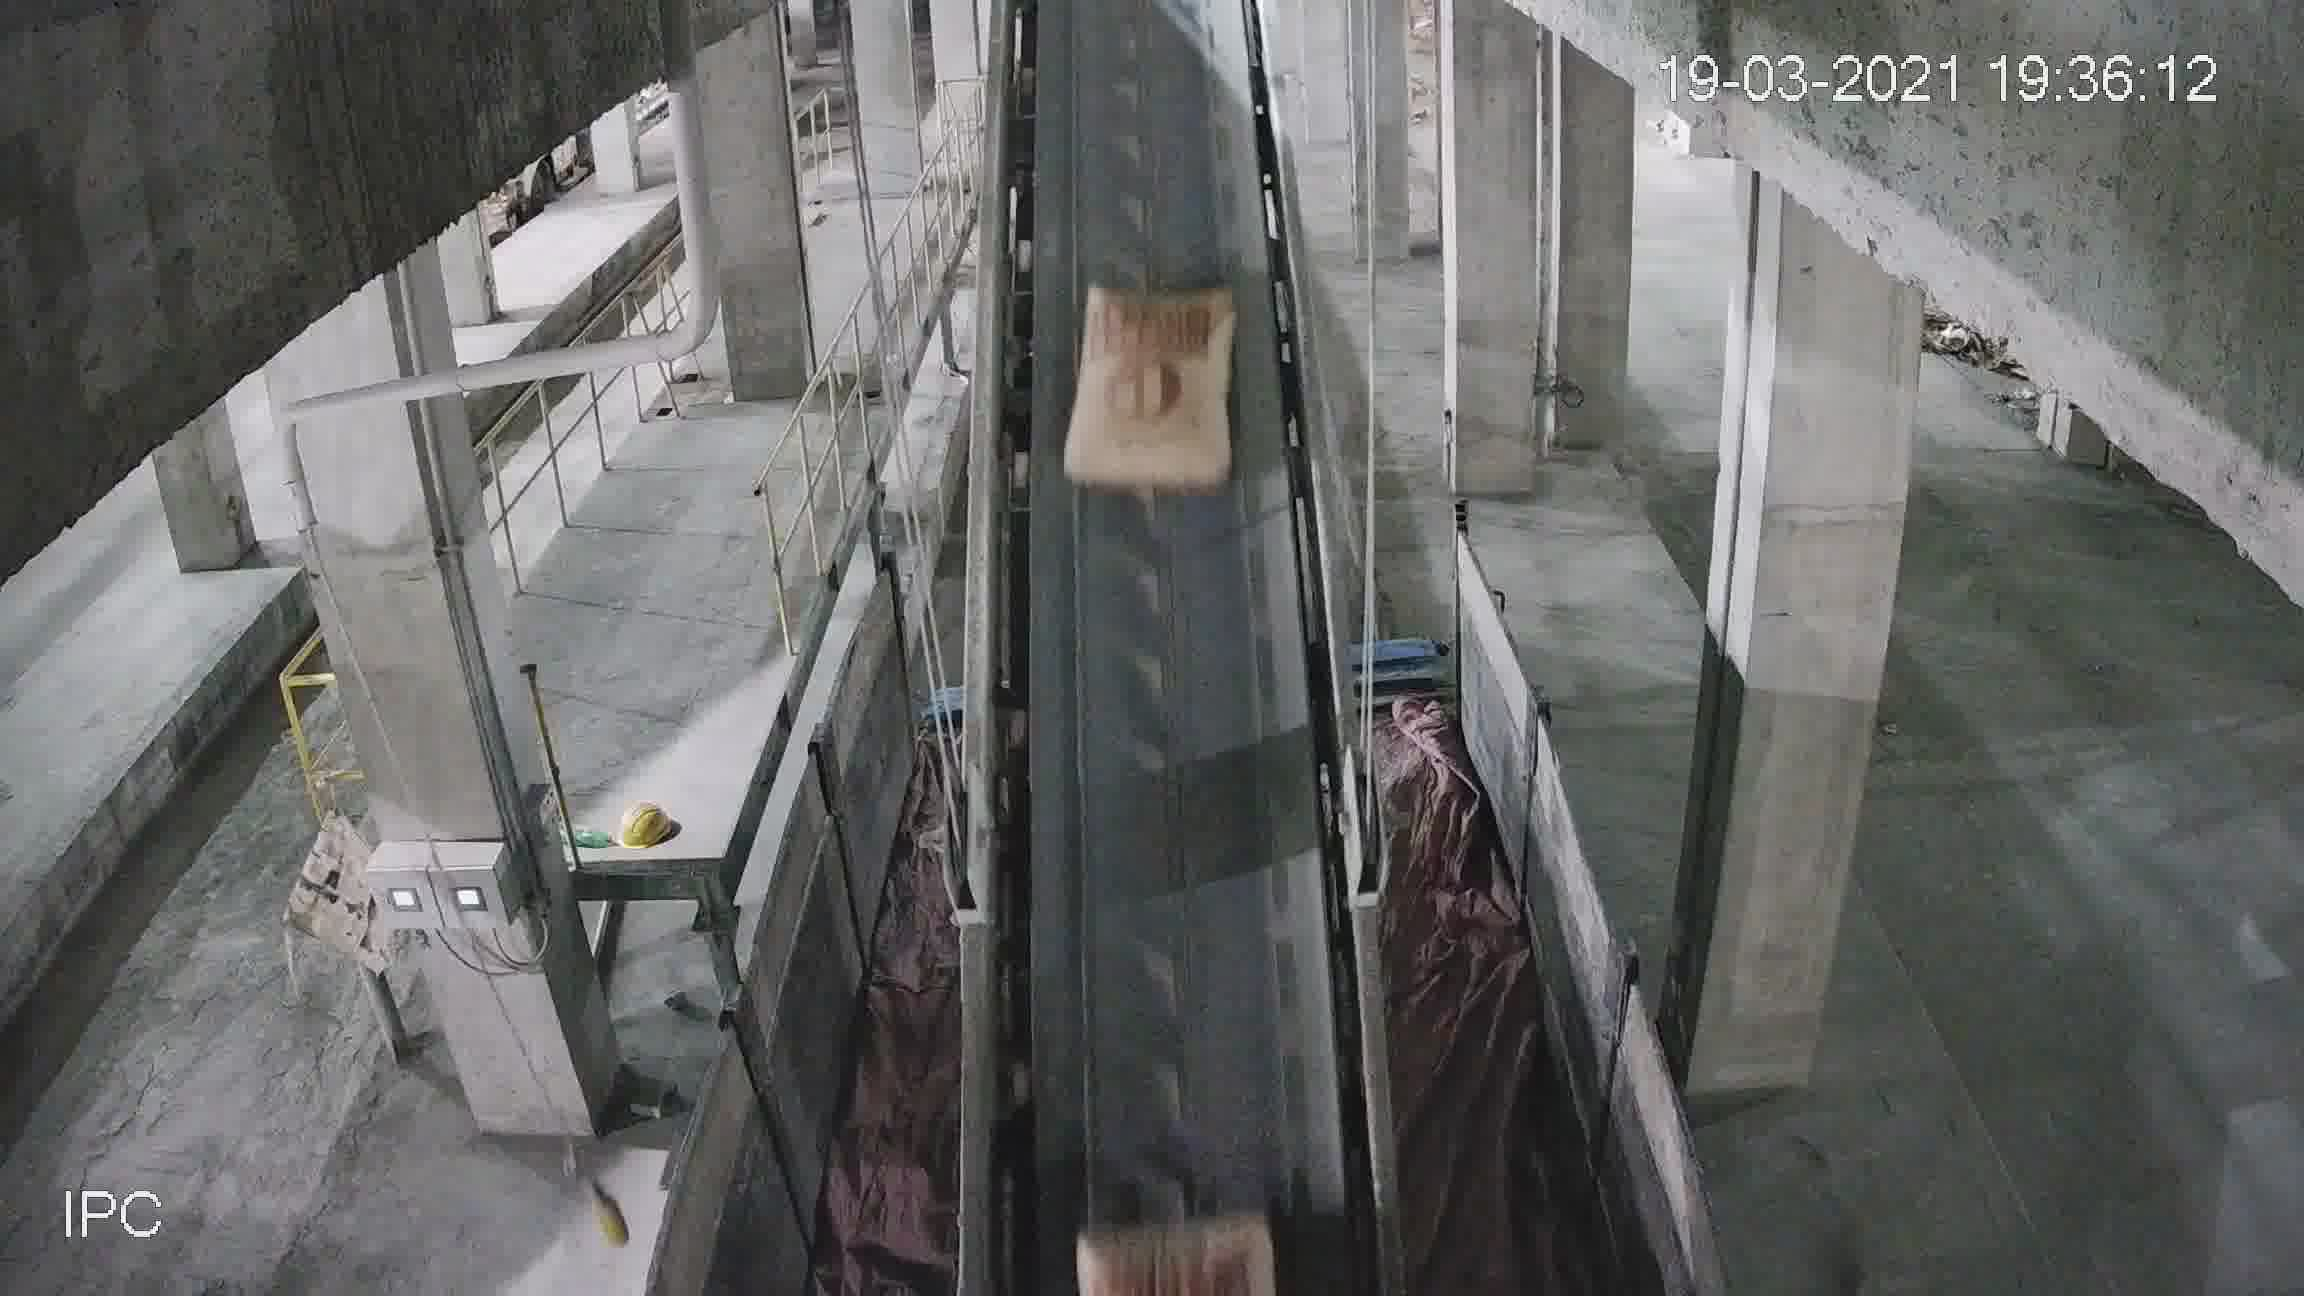bag: (1067, 297, 1236, 486), (1079, 1217, 1271, 1291)
belt: (965, 17, 1381, 1249)
